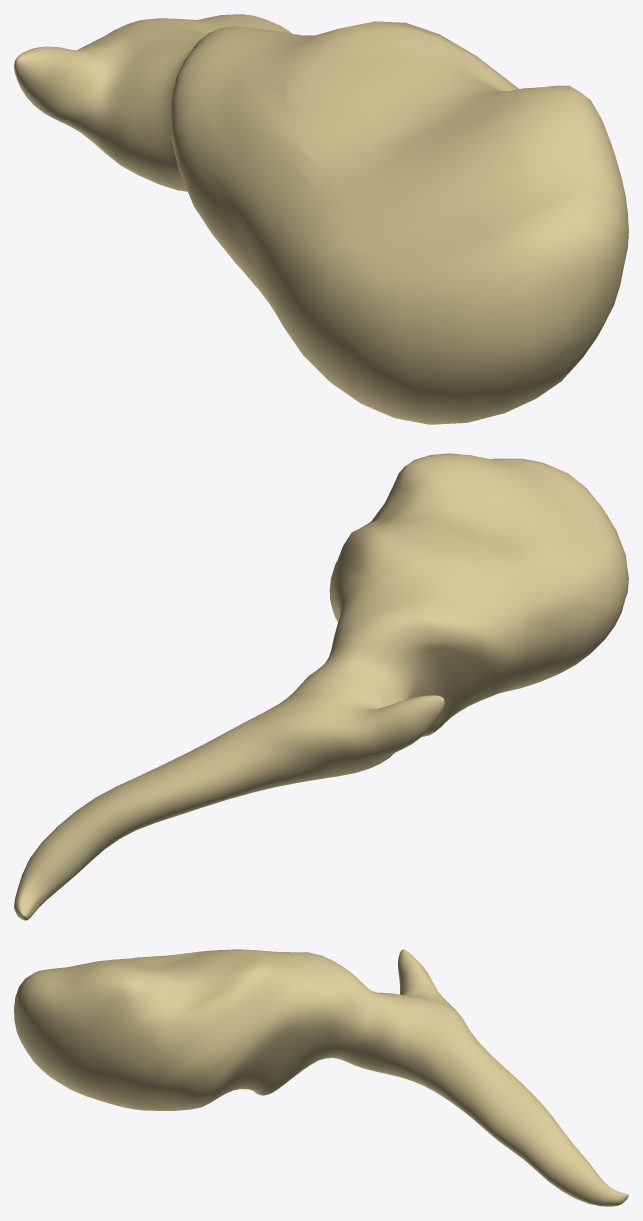
The picture shows the model from 3 angles, top to bottom: view 1: azimuth 30°, elevation 25°; view 2: azimuth 150°, elevation 25°; view 3: azimuth 270°, elevation 25°; orthographic projection. The views are drawn at different scales.
Parts seen in each view (by area): view 1: 右侧锤骨; view 2: 右侧锤骨; view 3: 右侧锤骨.
Boxes of the visible parts, x1,y1,x2,y2 form: 右侧锤骨: (14, 14, 628, 424); 右侧锤骨: (14, 453, 628, 920); 右侧锤骨: (14, 949, 628, 1206).
Bounding box in the file's own units: 0.00536 × 0.00424 × 0.0121.
